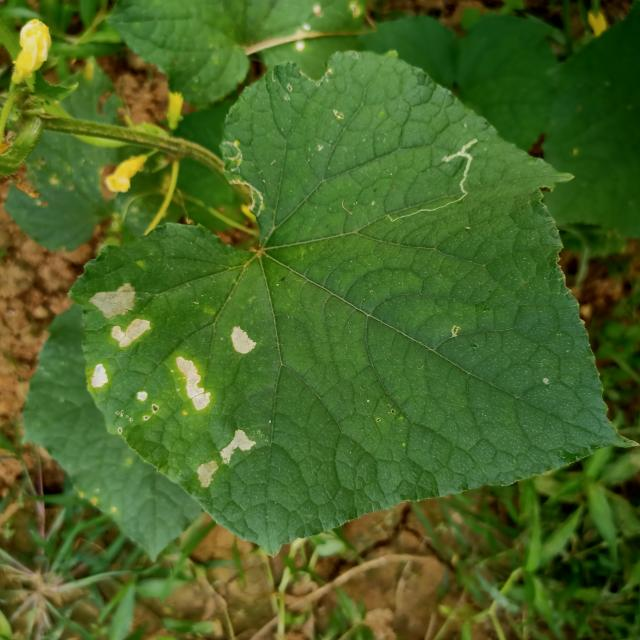disease_cucumber: (81, 280, 153, 399), (133, 354, 212, 420), (191, 426, 258, 492), (226, 320, 260, 361)
